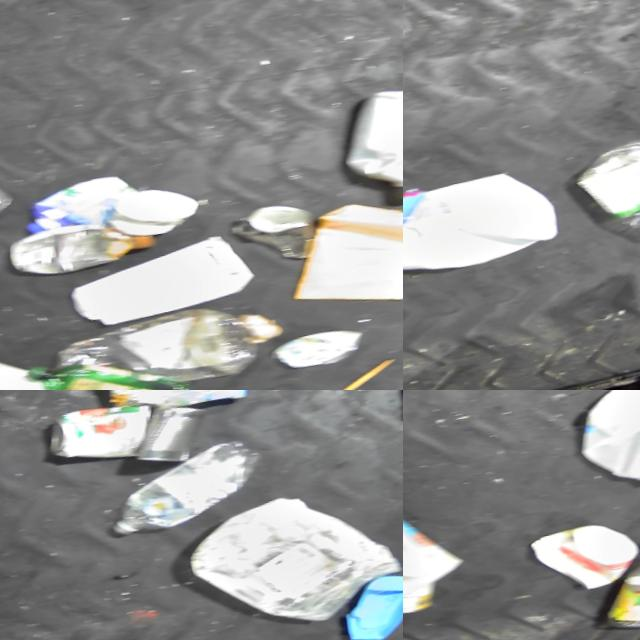can: (33, 394, 165, 473), (222, 194, 320, 268), (121, 398, 213, 469), (265, 319, 369, 374), (0, 154, 20, 233)
milk_jug: (403, 159, 562, 293), (403, 449, 468, 630), (554, 390, 640, 498)
non_white_jug: (322, 70, 403, 212)
plastic_bottle: (37, 285, 292, 390), (89, 434, 269, 540), (563, 127, 640, 260), (571, 497, 640, 636)
